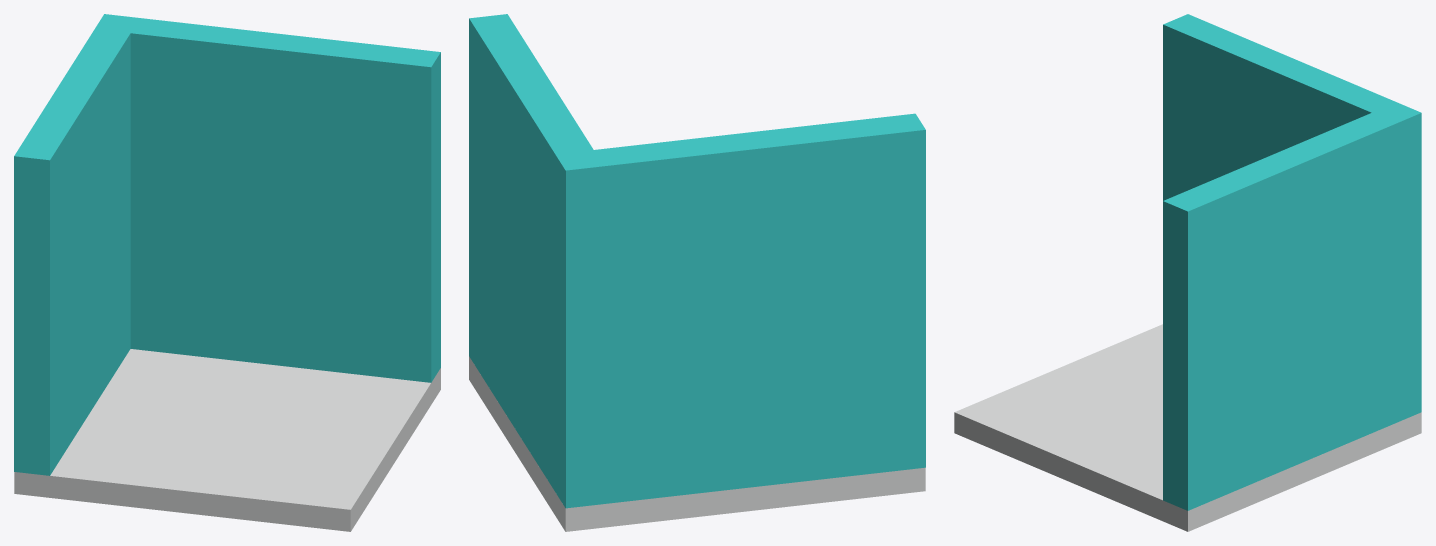
Rendered from duvar 1.1.2.fbx.
The picture shows the model from 3 angles, left to right: view 1: azimuth 30°, elevation 25°; view 2: azimuth 150°, elevation 25°; view 3: azimuth 270°, elevation 25°; orthographic projection. The views are drawn at different scales.
Parts seen in each view (by area): view 1: pCube9; view 2: pCube9; view 3: pCube9.
Boxes of the visible parts, bbox=[...] form: pCube9: bbox=[14, 14, 440, 531]; pCube9: bbox=[469, 14, 925, 531]; pCube9: bbox=[954, 14, 1421, 531].
Bounding box in the file's own units: 1796 × 1358 × 1795.
